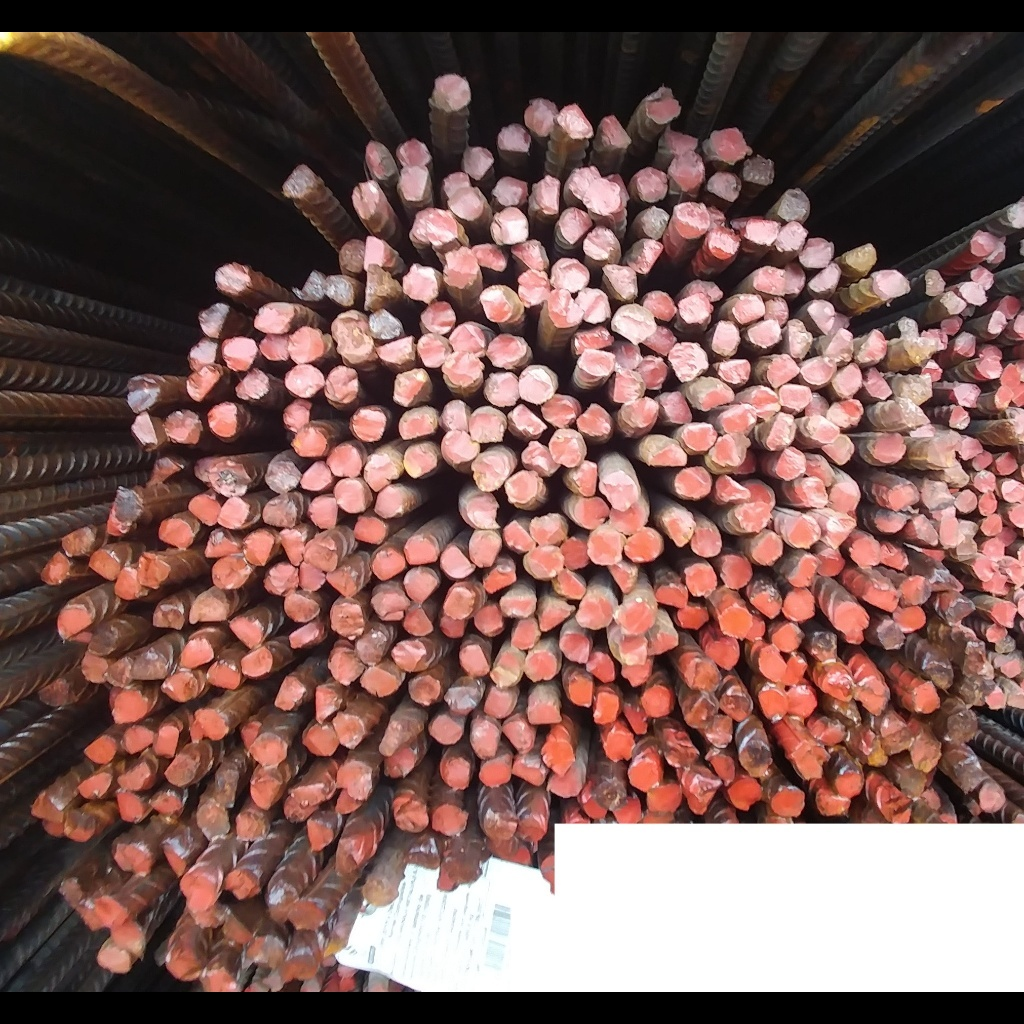dipstick: (331, 310, 371, 366), (614, 301, 654, 343), (473, 450, 511, 493), (443, 246, 481, 288), (668, 343, 710, 381), (371, 581, 407, 625), (662, 726, 698, 769), (815, 665, 858, 701), (182, 873, 218, 914), (493, 205, 528, 247), (547, 288, 583, 328), (398, 407, 439, 442), (330, 599, 365, 640), (552, 428, 586, 470), (109, 489, 138, 538), (462, 492, 499, 530), (335, 761, 372, 799), (615, 597, 653, 634), (672, 153, 707, 193), (680, 655, 720, 690), (472, 405, 505, 447), (326, 365, 358, 408), (192, 592, 229, 629), (197, 802, 234, 839), (579, 593, 615, 631), (165, 944, 201, 982), (520, 438, 555, 477), (210, 555, 250, 589), (537, 594, 571, 634), (620, 694, 651, 737), (605, 264, 642, 300), (553, 255, 589, 292), (708, 126, 747, 160), (206, 400, 237, 442), (165, 411, 201, 447), (225, 869, 261, 905), (433, 72, 470, 107), (557, 102, 592, 139), (676, 293, 713, 328), (442, 431, 477, 468), (391, 796, 428, 831), (754, 647, 789, 684), (620, 397, 658, 431), (348, 408, 386, 442), (958, 630, 986, 676), (501, 520, 534, 559), (793, 740, 826, 779), (651, 84, 682, 125), (523, 547, 564, 578), (730, 291, 766, 326), (519, 369, 554, 405), (589, 530, 624, 566), (681, 692, 717, 727), (521, 97, 555, 134), (404, 567, 438, 604), (675, 200, 708, 238), (475, 601, 508, 639), (835, 605, 868, 643), (580, 287, 612, 326), (351, 179, 380, 222), (241, 528, 272, 568), (664, 507, 694, 548), (403, 267, 438, 302), (222, 336, 257, 371), (447, 353, 482, 388), (263, 563, 299, 597), (329, 445, 363, 481), (403, 443, 437, 479), (251, 734, 287, 768), (364, 142, 397, 179), (602, 472, 635, 509), (190, 709, 227, 742), (305, 722, 338, 759), (876, 784, 909, 821), (276, 526, 305, 568), (283, 365, 322, 396), (911, 736, 942, 775), (575, 495, 610, 529), (214, 768, 243, 809), (515, 239, 551, 272), (289, 328, 325, 361), (897, 372, 933, 405), (716, 605, 752, 638), (864, 578, 900, 611), (398, 162, 430, 199), (480, 285, 512, 322), (337, 476, 369, 513), (439, 755, 471, 792), (209, 463, 249, 492), (110, 692, 150, 721), (709, 171, 744, 204), (372, 486, 405, 521), (542, 738, 575, 773), (453, 323, 489, 355), (685, 775, 717, 811), (758, 687, 790, 723), (706, 748, 738, 784), (861, 330, 889, 371), (233, 371, 270, 402), (578, 401, 609, 438), (205, 528, 242, 559), (558, 630, 589, 667), (603, 726, 634, 763), (367, 452, 397, 490), (330, 646, 360, 684), (248, 936, 286, 966), (491, 176, 530, 205), (374, 338, 413, 367), (139, 553, 168, 592), (306, 533, 335, 572), (586, 180, 620, 213), (126, 376, 160, 409), (489, 334, 523, 367), (677, 466, 711, 499), (393, 638, 426, 672), (817, 785, 851, 818), (809, 628, 843, 661), (510, 406, 545, 438), (480, 808, 515, 840), (919, 793, 954, 825), (648, 322, 679, 358), (875, 268, 911, 299), (40, 551, 71, 587), (613, 501, 649, 532), (564, 673, 595, 709), (764, 354, 801, 384), (503, 716, 533, 753), (160, 840, 189, 878), (471, 718, 500, 756), (129, 413, 157, 452), (418, 334, 451, 367), (486, 372, 519, 405), (822, 330, 855, 363), (785, 589, 818, 622), (771, 784, 804, 817), (893, 397, 927, 429), (829, 398, 863, 430), (432, 802, 464, 836), (444, 577, 478, 609), (685, 563, 717, 597), (752, 532, 784, 566), (726, 778, 760, 810), (923, 654, 957, 686), (519, 271, 550, 306), (540, 394, 575, 425), (712, 436, 747, 467), (285, 592, 320, 623), (805, 297, 835, 333), (470, 530, 497, 570), (734, 502, 771, 531), (159, 518, 196, 547), (337, 835, 366, 872), (492, 647, 521, 684), (547, 767, 584, 796), (442, 855, 480, 883), (824, 696, 862, 724), (778, 188, 810, 221), (195, 305, 228, 337), (394, 371, 426, 404), (534, 513, 566, 546), (406, 673, 439, 705), (676, 599, 708, 632), (637, 167, 668, 201), (421, 301, 455, 332), (661, 392, 695, 423), (231, 616, 262, 650), (351, 513, 385, 544), (508, 618, 542, 649), (720, 555, 751, 589), (430, 208, 457, 247), (255, 304, 294, 331), (716, 358, 755, 385), (281, 397, 311, 432), (747, 318, 782, 348), (823, 512, 853, 547), (168, 755, 198, 790), (741, 741, 771, 776), (662, 124, 698, 153), (631, 236, 660, 272), (213, 263, 249, 292), (687, 276, 723, 305), (860, 676, 889, 712), (914, 679, 943, 715), (712, 322, 740, 359), (326, 276, 358, 308), (626, 531, 658, 563), (115, 922, 147, 954), (609, 563, 641, 595), (614, 368, 647, 399), (508, 472, 539, 505), (441, 545, 472, 578), (871, 431, 905, 461), (263, 495, 297, 525), (217, 497, 251, 527), (115, 567, 145, 601), (789, 514, 818, 549), (55, 605, 90, 634), (362, 666, 397, 695), (643, 684, 672, 719), (835, 760, 864, 795), (812, 716, 847, 745), (283, 950, 318, 979), (585, 222, 613, 258), (755, 263, 783, 299), (651, 621, 678, 658), (180, 637, 212, 668), (430, 713, 462, 744), (525, 649, 557, 680), (554, 569, 585, 601), (708, 638, 739, 670), (719, 689, 751, 720), (561, 206, 591, 239), (150, 458, 183, 488), (630, 755, 660, 788), (816, 547, 846, 580), (289, 429, 327, 455), (861, 733, 890, 767), (646, 287, 674, 322), (577, 348, 612, 376), (439, 607, 467, 642), (578, 783, 606, 818), (694, 524, 722, 559), (751, 583, 779, 618), (573, 326, 612, 351), (641, 355, 666, 394), (534, 176, 561, 212), (136, 651, 167, 682), (485, 687, 516, 718), (598, 778, 629, 809), (463, 147, 493, 179), (187, 367, 217, 399), (922, 478, 952, 510), (724, 405, 756, 435), (648, 440, 688, 464), (745, 479, 777, 509), (189, 494, 219, 526), (310, 496, 339, 529), (372, 551, 405, 580), (122, 847, 155, 876), (264, 884, 293, 917), (208, 660, 242, 688), (572, 463, 600, 497), (292, 901, 326, 929), (501, 590, 535, 618), (885, 720, 913, 754), (601, 114, 626, 152), (364, 274, 391, 309), (696, 382, 731, 409), (30, 794, 65, 821), (277, 677, 303, 713), (789, 684, 815, 720), (260, 333, 291, 363), (371, 310, 401, 341), (685, 422, 716, 452), (744, 155, 776, 184), (809, 265, 838, 297), (834, 366, 866, 395), (926, 438, 955, 470), (745, 384, 777, 413), (80, 773, 117, 798), (335, 714, 360, 751), (286, 164, 314, 197), (803, 414, 836, 442), (85, 738, 118, 766), (251, 773, 279, 806), (235, 809, 268, 837), (480, 564, 513, 592), (787, 318, 810, 358), (450, 190, 484, 217), (801, 357, 835, 384), (59, 529, 97, 553), (595, 688, 619, 726), (443, 687, 478, 713), (526, 700, 561, 726), (619, 659, 654, 685), (647, 783, 682, 809), (654, 580, 689, 606), (266, 458, 296, 488), (479, 758, 509, 788), (789, 552, 814, 588), (802, 238, 833, 267), (190, 338, 219, 369), (442, 400, 471, 431), (328, 568, 359, 597), (122, 763, 153, 792), (364, 877, 395, 906), (405, 605, 434, 636), (773, 621, 802, 652), (902, 574, 931, 605), (947, 709, 976, 740), (570, 164, 598, 196), (301, 462, 333, 490), (305, 818, 333, 850), (864, 367, 891, 400), (886, 482, 919, 509), (163, 676, 196, 703), (511, 759, 544, 786), (293, 781, 330, 805), (956, 755, 980, 792), (744, 218, 778, 244), (339, 239, 365, 273), (853, 533, 879, 567), (314, 686, 340, 720), (398, 138, 433, 163), (614, 339, 643, 369), (799, 477, 828, 507), (123, 725, 153, 754), (56, 878, 86, 907), (221, 913, 251, 942), (357, 633, 386, 663), (517, 813, 546, 843), (587, 653, 616, 683), (895, 605, 925, 634), (297, 271, 325, 302), (244, 648, 272, 679), (618, 634, 646, 665), (877, 618, 905, 649), (843, 246, 876, 272), (807, 451, 833, 484), (152, 603, 185, 629), (64, 813, 97, 839), (110, 655, 135, 689), (639, 207, 667, 237), (711, 228, 739, 258), (952, 380, 982, 408), (715, 475, 745, 503), (297, 562, 325, 592), (405, 537, 435, 565), (499, 123, 530, 150), (880, 541, 907, 572), (89, 549, 120, 576), (901, 766, 928, 797), (914, 514, 939, 547), (979, 780, 1004, 813), (479, 242, 506, 272), (154, 725, 181, 755), (386, 750, 413, 780), (780, 222, 806, 253), (767, 416, 793, 447), (99, 896, 125, 927), (410, 207, 430, 247), (780, 448, 805, 480), (831, 480, 855, 513), (199, 968, 232, 992), (442, 172, 469, 201), (826, 434, 853, 463), (764, 298, 790, 328), (779, 383, 809, 409), (385, 721, 415, 747), (405, 849, 442, 870), (710, 717, 735, 748), (930, 566, 961, 591), (281, 797, 314, 820), (335, 791, 364, 817), (944, 598, 974, 623), (987, 601, 1017, 626), (964, 675, 989, 705), (460, 645, 484, 676), (941, 513, 961, 550), (40, 682, 77, 702), (87, 627, 113, 655), (82, 655, 108, 683), (115, 792, 143, 818), (617, 795, 643, 823), (876, 509, 909, 531), (289, 624, 318, 649), (365, 236, 385, 272), (190, 459, 220, 483), (110, 841, 134, 871), (482, 838, 516, 859), (237, 720, 260, 751), (79, 901, 101, 933), (807, 392, 834, 418), (960, 520, 977, 561), (998, 420, 1023, 447), (783, 262, 804, 294), (97, 943, 134, 961), (1003, 557, 1024, 588), (922, 269, 945, 296), (971, 557, 998, 580), (906, 341, 935, 362), (151, 793, 180, 814), (960, 281, 985, 305), (972, 230, 996, 255), (976, 358, 1003, 380), (993, 385, 1014, 413), (923, 328, 948, 351), (981, 341, 1007, 363), (994, 452, 1017, 476), (943, 291, 968, 313), (952, 334, 978, 355), (1008, 201, 1024, 235), (959, 435, 981, 459), (738, 451, 759, 476), (39, 820, 68, 838), (999, 654, 1022, 676), (1000, 479, 1024, 500), (972, 471, 997, 491), (985, 579, 1012, 597), (983, 536, 1004, 559), (956, 490, 977, 513), (973, 265, 993, 289), (939, 313, 963, 333), (976, 493, 1000, 513), (980, 513, 1001, 535), (987, 312, 1007, 335), (709, 202, 726, 229), (1001, 293, 1020, 317), (951, 405, 970, 429), (1007, 503, 1024, 529), (898, 317, 919, 338), (923, 359, 943, 381), (997, 635, 1019, 655), (831, 310, 851, 331), (989, 687, 1005, 713), (989, 242, 1006, 266), (972, 451, 992, 471), (985, 622, 1006, 641), (1002, 363, 1020, 385), (1001, 527, 1018, 546), (1011, 386, 1024, 406)
